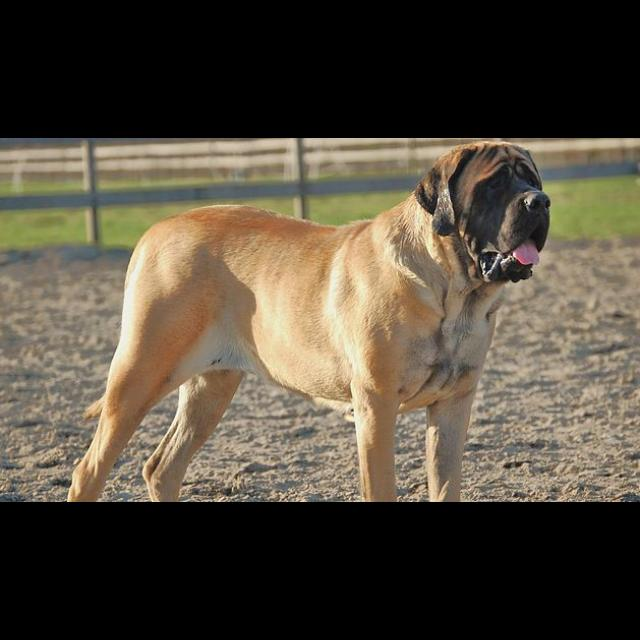mastiff: (66, 142, 552, 503)
